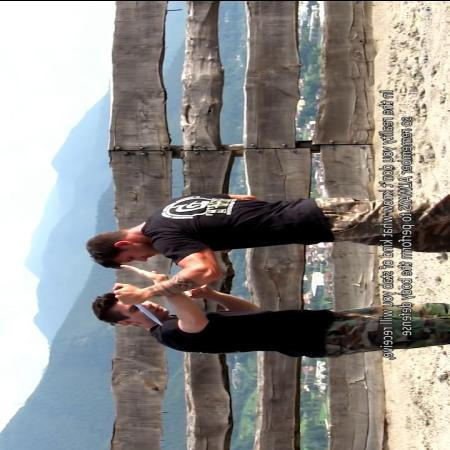long weapon: (112, 281, 164, 327)
